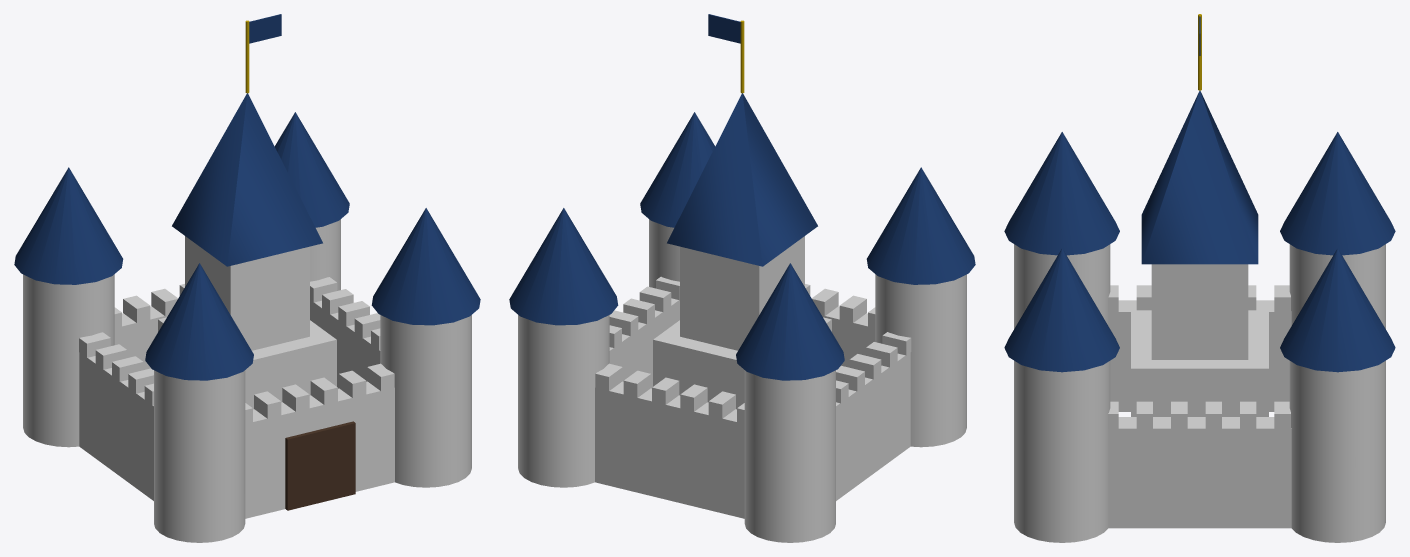
File: kings_castle.fbx
The picture shows the model from 3 angles, left to right: view 1: azimuth 30°, elevation 25°; view 2: azimuth 150°, elevation 25°; view 3: azimuth 270°, elevation 25°; orthographic projection. The views are drawn at different scales.
Parts seen in each view (by area): view 1: nodes[1], nodes[7], nodes[38], nodes[28], nodes[18]; view 2: nodes[1], nodes[18], nodes[38], nodes[28], nodes[7]; view 3: nodes[1], nodes[28], nodes[38].
Part boxes in pixels (x1,y1,x2,y2): nodes[1]: (14, 14, 480, 542); nodes[7]: (245, 363, 394, 518); nodes[38]: (79, 332, 153, 500); nodes[28]: (310, 277, 380, 388); nodes[18]: (114, 284, 184, 369); nodes[1]: (509, 14, 975, 542); nodes[18]: (595, 363, 744, 518); nodes[38]: (836, 332, 911, 500); nodes[28]: (609, 276, 679, 388); nodes[7]: (805, 284, 875, 367); nodes[1]: (1004, 14, 1395, 542); nodes[28]: (1108, 401, 1291, 528); nodes[38]: (1108, 285, 1291, 411).
Bounding box in the file's own units: 28.4 × 36 × 28.4.
